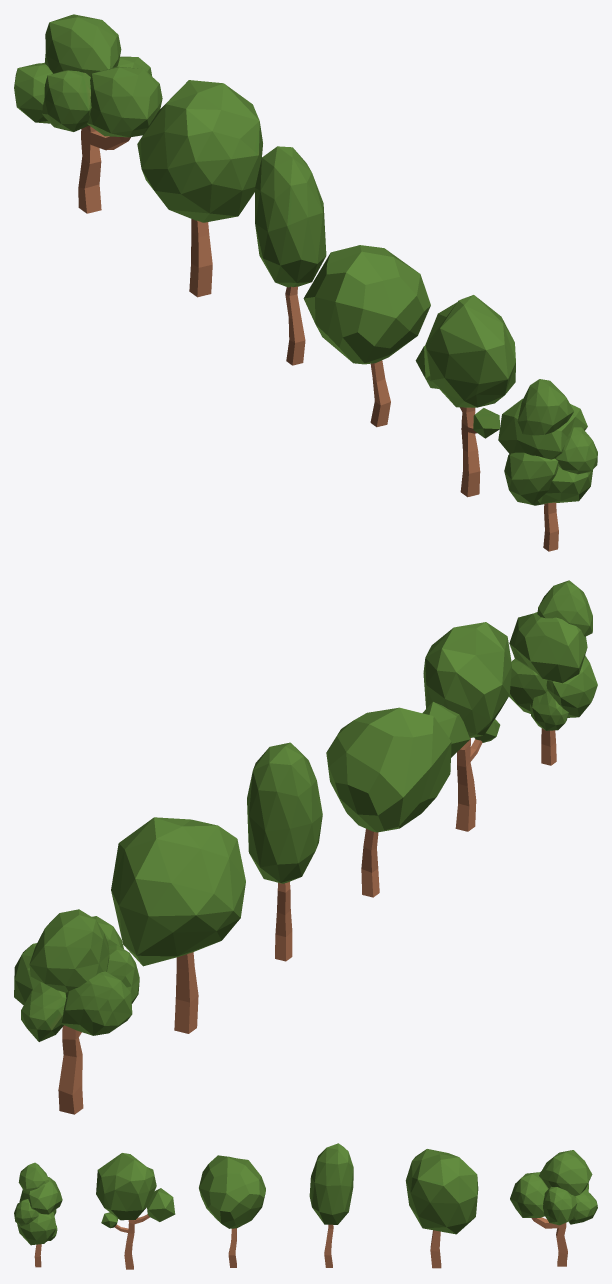
Rendered from trees.glb.
The picture shows the model from 3 angles, top to bottom: view 1: azimuth 30°, elevation 25°; view 2: azimuth 150°, elevation 25°; view 3: azimuth 270°, elevation 25°; orthographic projection. The views are drawn at different scales.
Parts seen in each view (by area): view 1: Tree 5, Tree 6, Tree 3, Tree 2, Tree 1, Tree 4; view 2: Tree 5, Tree 6, Tree 3, Tree 2, Tree 1, Tree 4; view 3: Tree 5, Tree 6, Tree 2, Tree 3, Tree 4, Tree 1.
Part boxes in pixels (bbox=[...]): Tree 5: bbox=[137, 80, 262, 297]; Tree 6: bbox=[14, 14, 162, 213]; Tree 3: bbox=[303, 245, 430, 427]; Tree 2: bbox=[415, 295, 515, 497]; Tree 1: bbox=[498, 379, 597, 551]; Tree 4: bbox=[255, 146, 326, 365]; Tree 5: bbox=[111, 817, 245, 1033]; Tree 6: bbox=[14, 909, 139, 1114]; Tree 3: bbox=[326, 707, 451, 897]; Tree 2: bbox=[422, 622, 511, 831]; Tree 1: bbox=[509, 580, 597, 765]; Tree 4: bbox=[247, 742, 322, 961]; Tree 5: bbox=[405, 1149, 478, 1268]; Tree 6: bbox=[510, 1150, 597, 1266]; Tree 2: bbox=[96, 1153, 175, 1269]; Tree 3: bbox=[199, 1155, 265, 1267]; Tree 4: bbox=[309, 1143, 353, 1267]; Tree 1: bbox=[14, 1162, 62, 1267].
Bounding box in the file's own units: 0.6692 × 1.11 × 4.81.
Materials: 1 (1 with a texture image).
